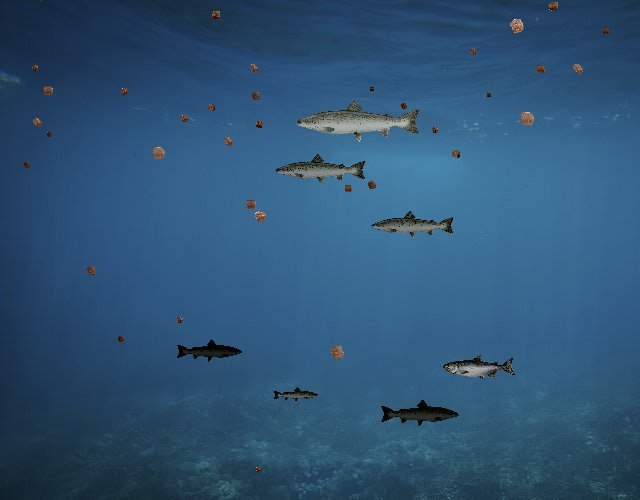Fish: (294, 97, 423, 143), (275, 152, 369, 186), (370, 209, 456, 240), (380, 398, 461, 427), (444, 355, 517, 381), (176, 338, 244, 362), (273, 386, 320, 403)
Pellet: (248, 204, 273, 229), (172, 313, 187, 328), (114, 332, 128, 346), (428, 123, 442, 137), (28, 61, 42, 75), (252, 464, 264, 476)
